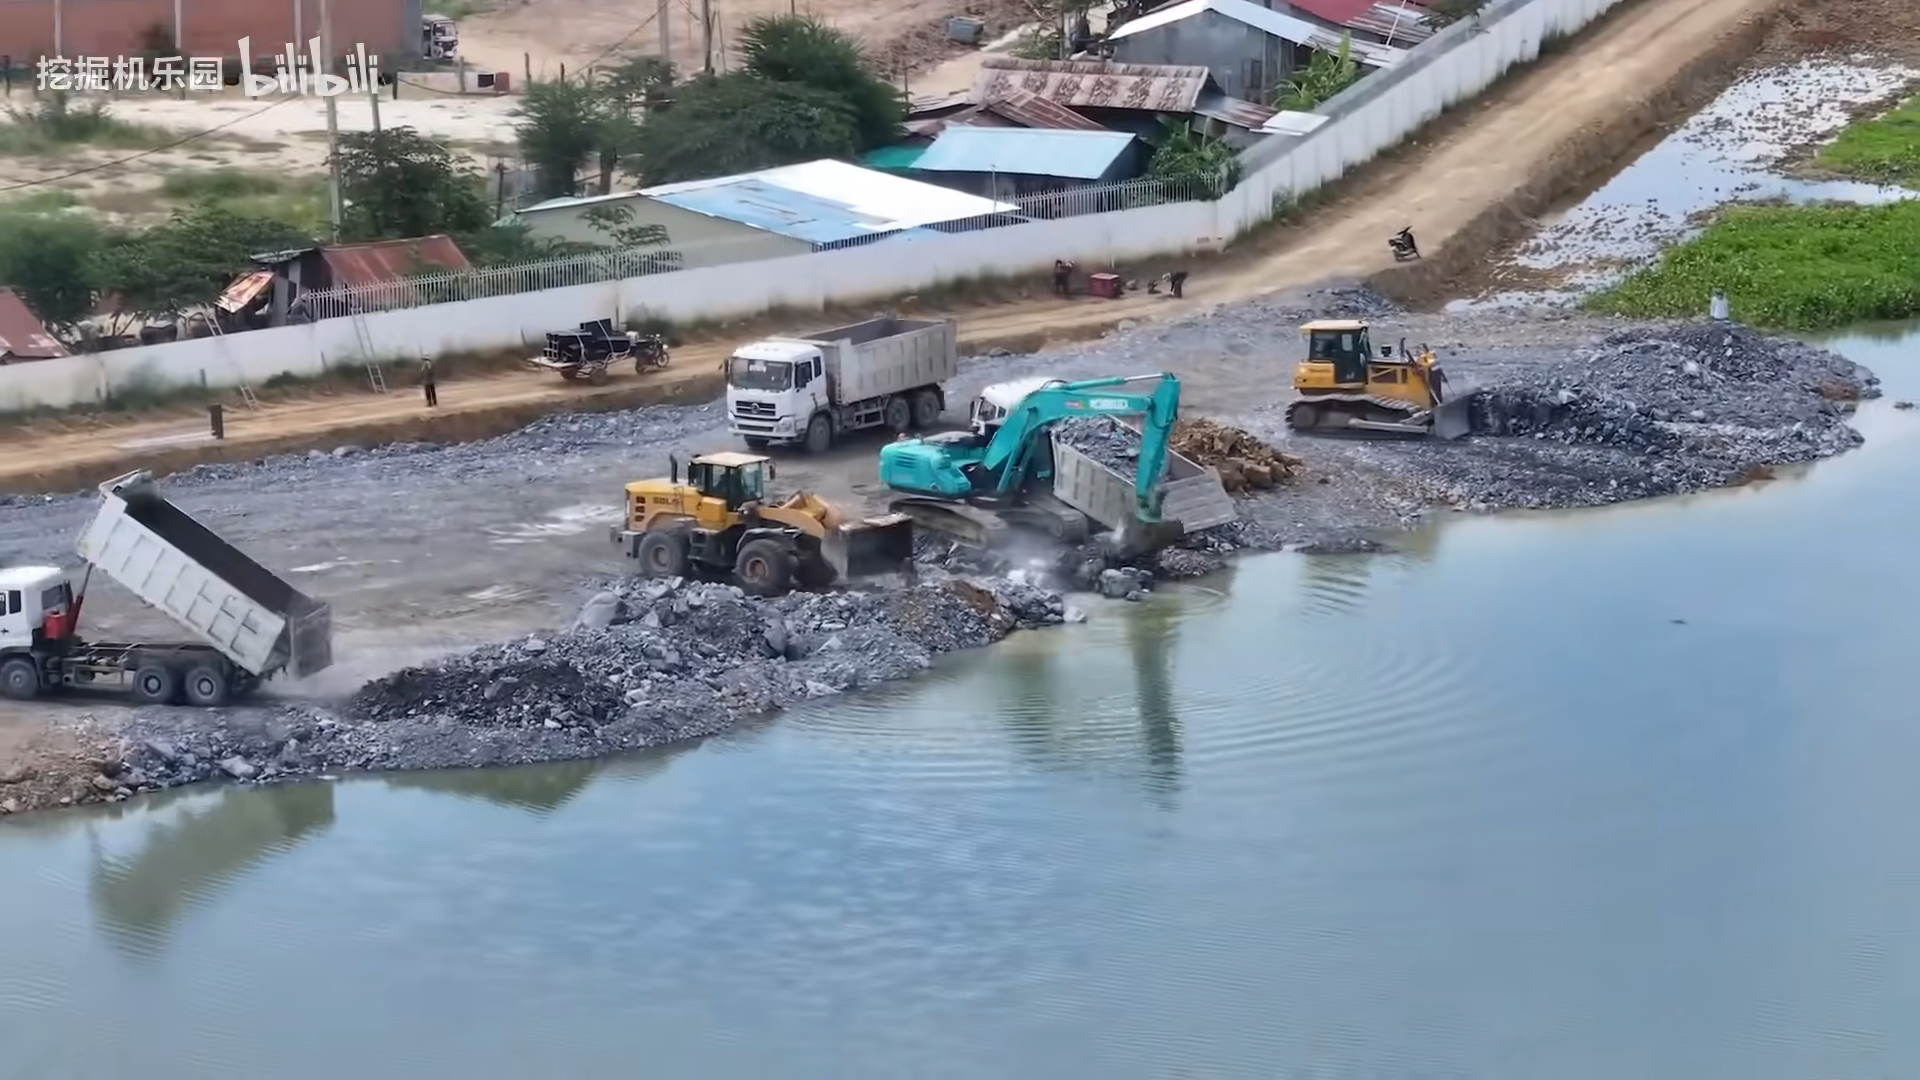excavator: (862, 368, 1226, 567)
